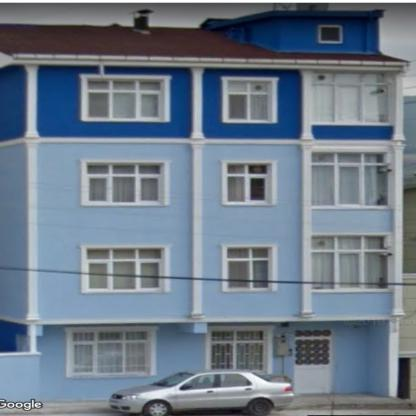door: (296, 331, 330, 395)
window: (310, 72, 392, 124), (312, 152, 389, 206), (312, 236, 387, 288), (73, 331, 148, 373), (87, 248, 162, 288), (87, 163, 160, 202), (86, 81, 160, 117), (211, 330, 264, 370), (226, 81, 272, 119), (228, 248, 267, 288), (228, 164, 268, 202), (320, 26, 341, 42)
